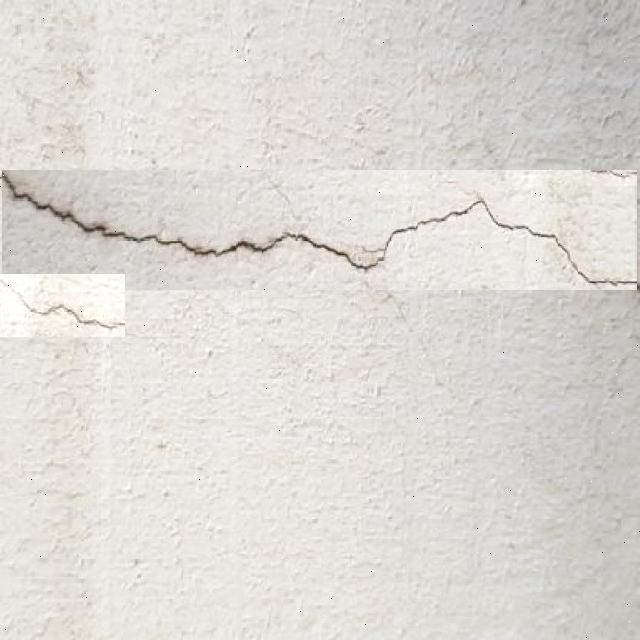crack: (0, 167, 639, 291)
